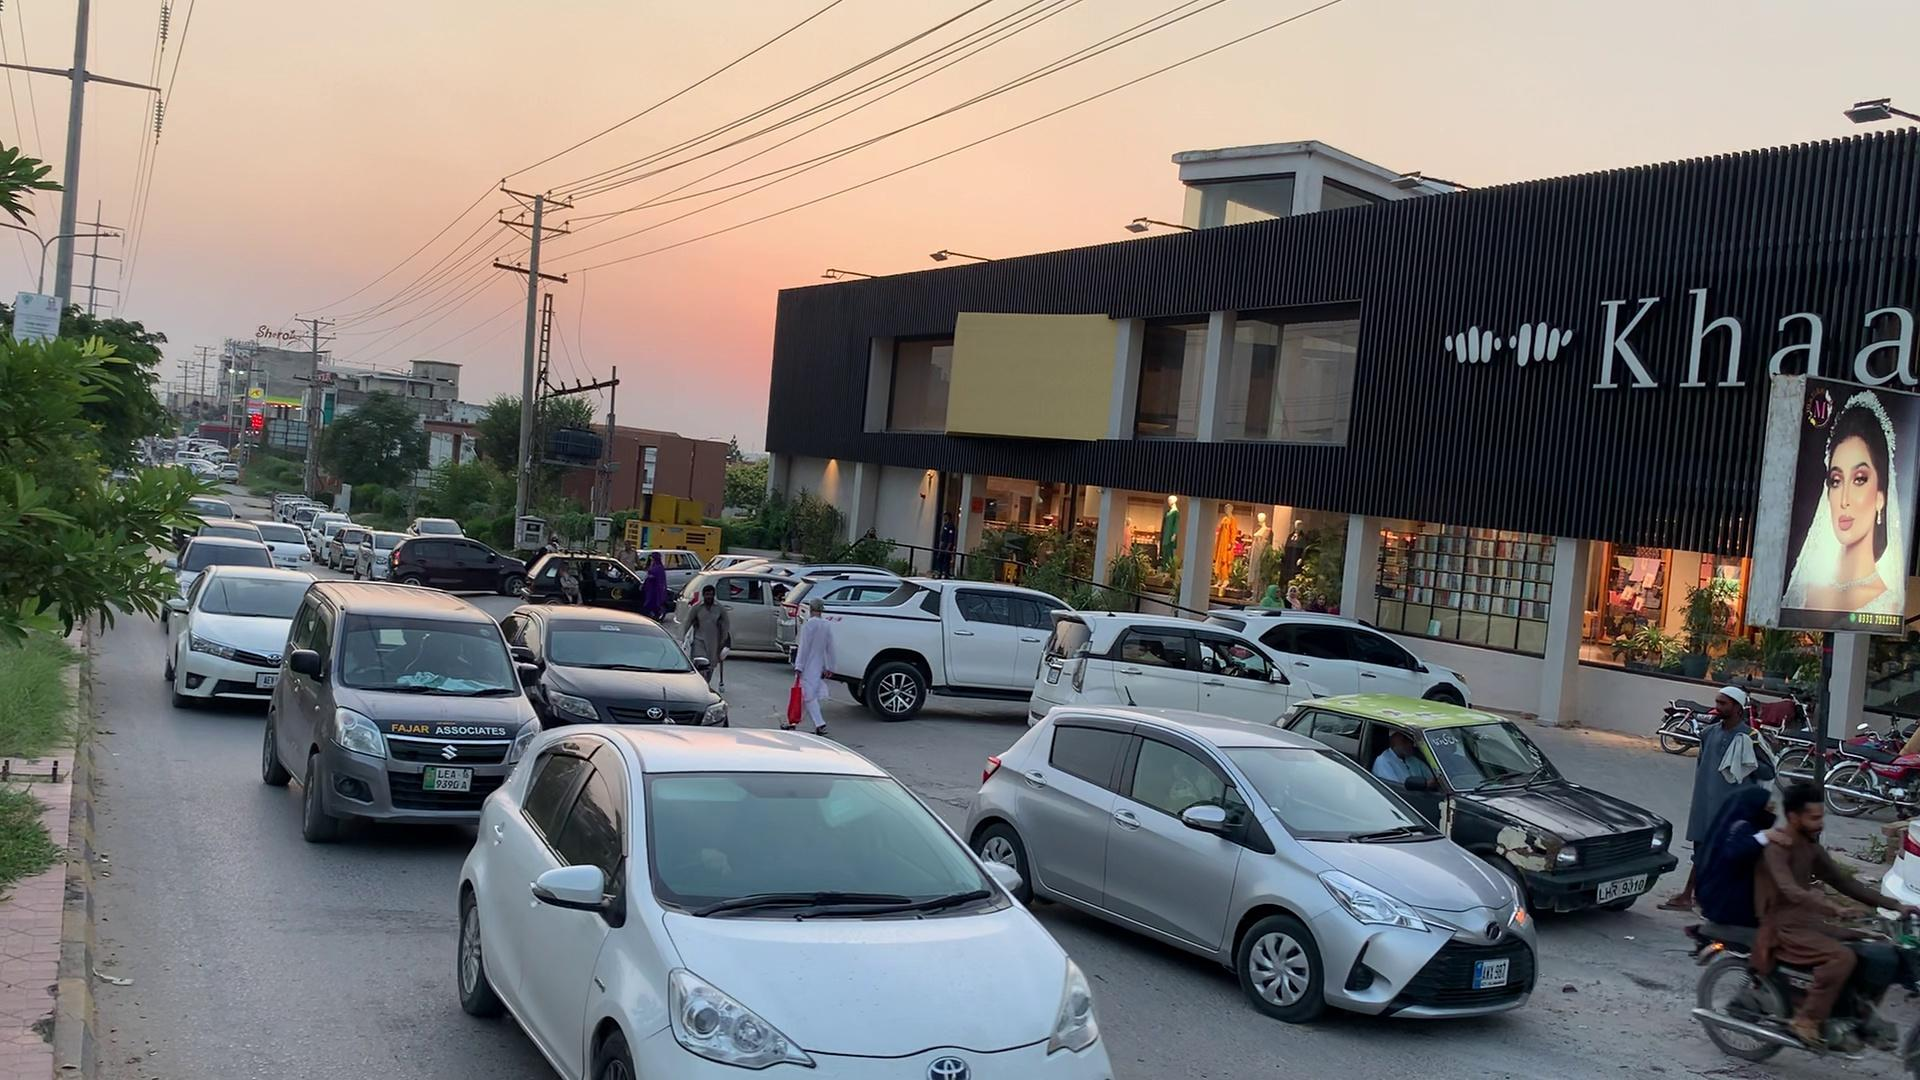windshield: (641, 746, 1034, 927), (334, 596, 527, 702)
